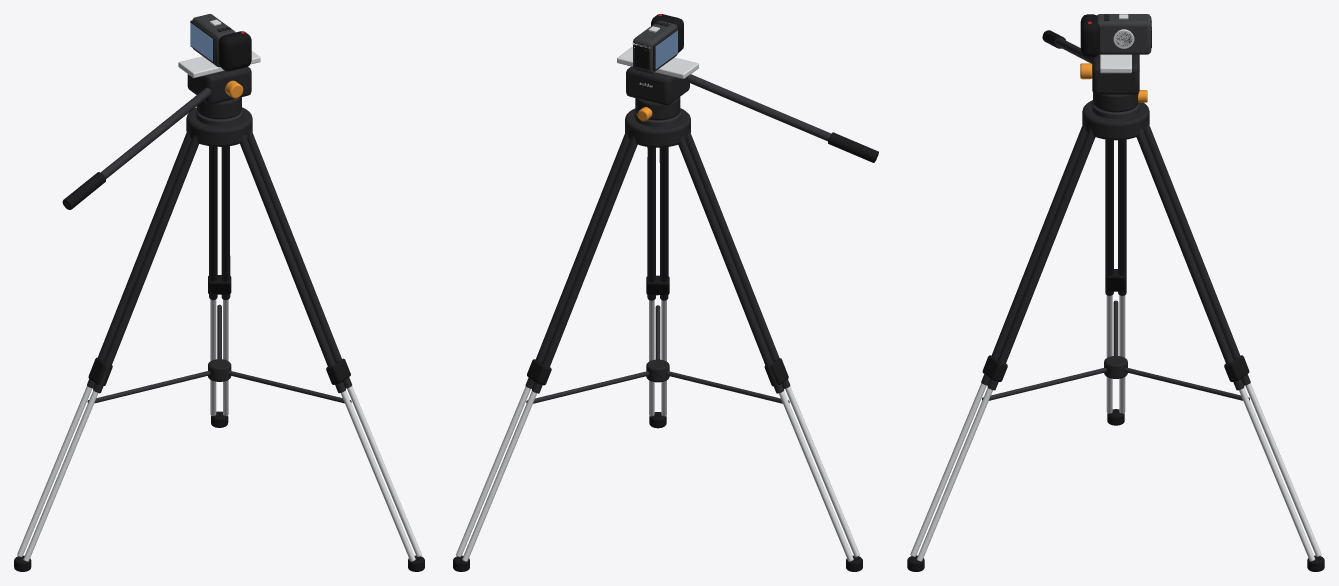
File: blackmagic_pocket_4k_tripie_video.glb
3 renders of one model, left to right at view 1: azimuth 30°, elevation 25°; view 2: azimuth 150°, elevation 25°; view 3: azimuth 270°, elevation 25°, orthographic.
Parts seen in each view (by area): view 1: Blackmagic Pocket Cinema Camera 4K en tripié de video; view 2: Blackmagic Pocket Cinema Camera 4K en tripié de video; view 3: Blackmagic Pocket Cinema Camera 4K en tripié de video.
Part boxes in pixels (box(x1,y1,x2,y2)): Blackmagic Pocket Cinema Camera 4K en tripié de video: box(14, 14, 424, 571); Blackmagic Pocket Cinema Camera 4K en tripié de video: box(453, 14, 878, 571); Blackmagic Pocket Cinema Camera 4K en tripié de video: box(907, 14, 1324, 571).
Bounding box in the file's own units: 0.9175 × 1.4 × 1.05.
